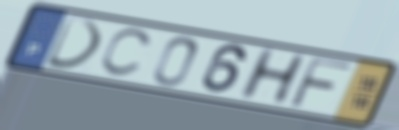0: (152, 35, 201, 88)
6: (200, 42, 248, 96)
C: (97, 28, 157, 80)
D: (42, 14, 107, 72)
F: (286, 55, 356, 111)
H: (233, 46, 311, 106)
